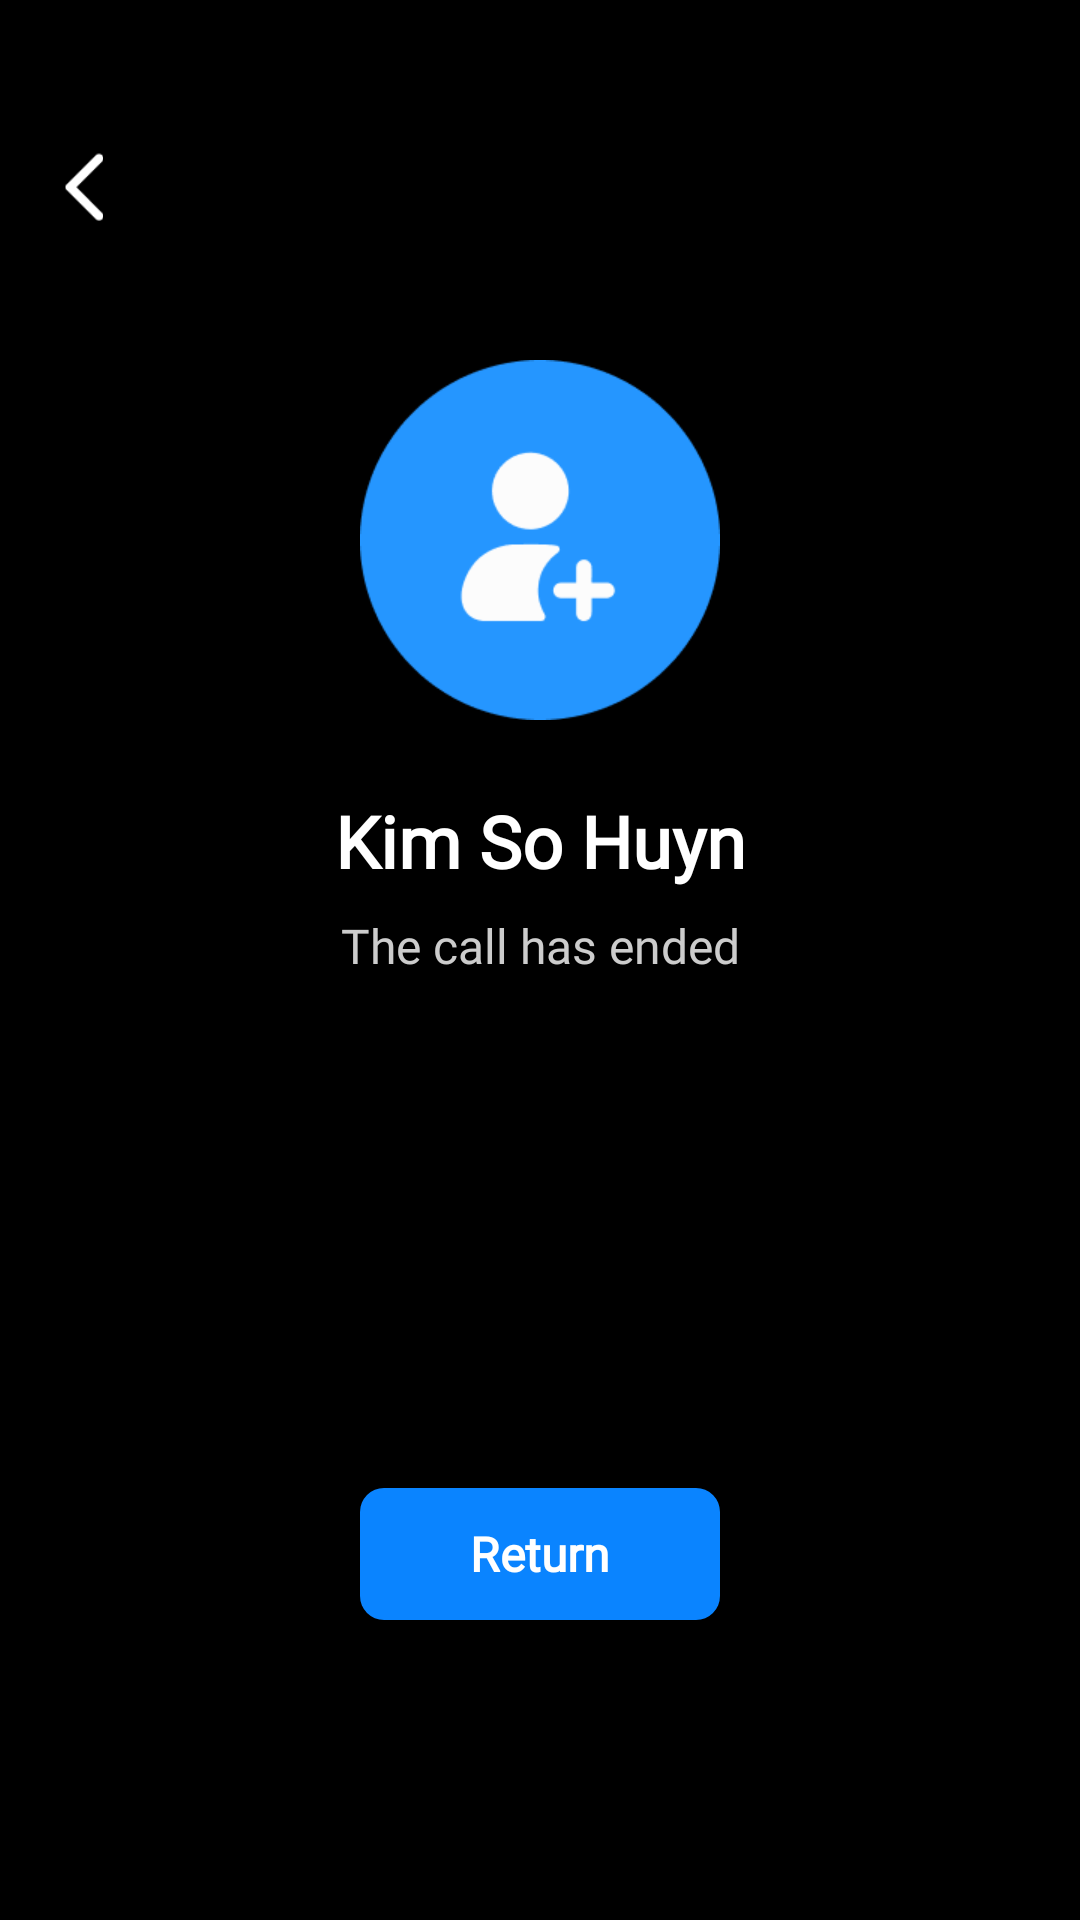

Icons on this 1080*1920 Android screen, each with the point to tap as point (x, y):
addavatar: point (540, 540)
arrowback addfakecall: point (84, 187)
